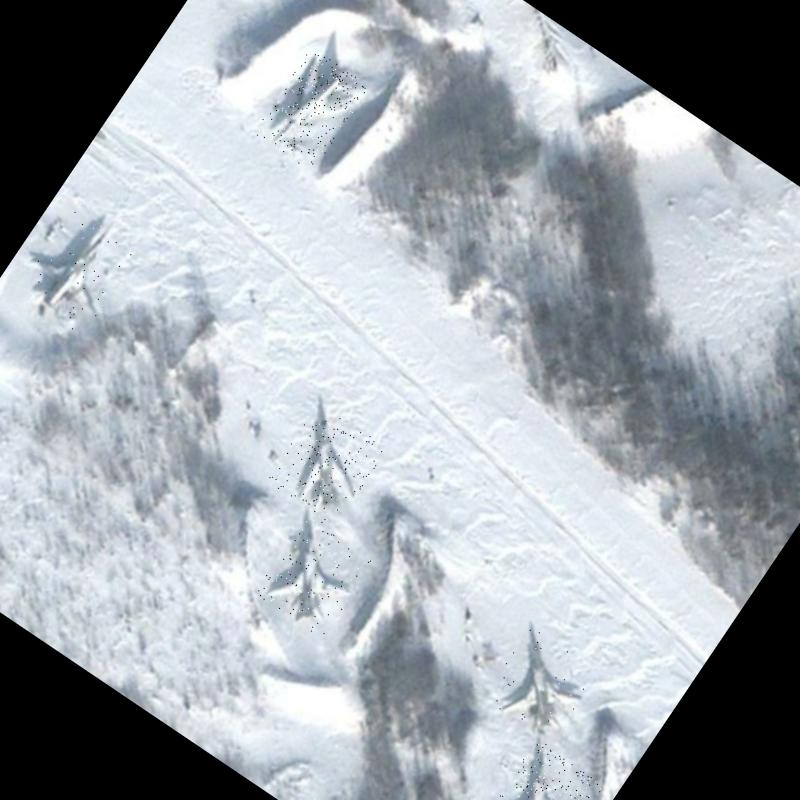A12: (6, 193, 148, 342), (252, 512, 376, 640), (266, 402, 388, 528), (253, 47, 370, 173), (480, 626, 600, 748), (485, 740, 606, 800)
